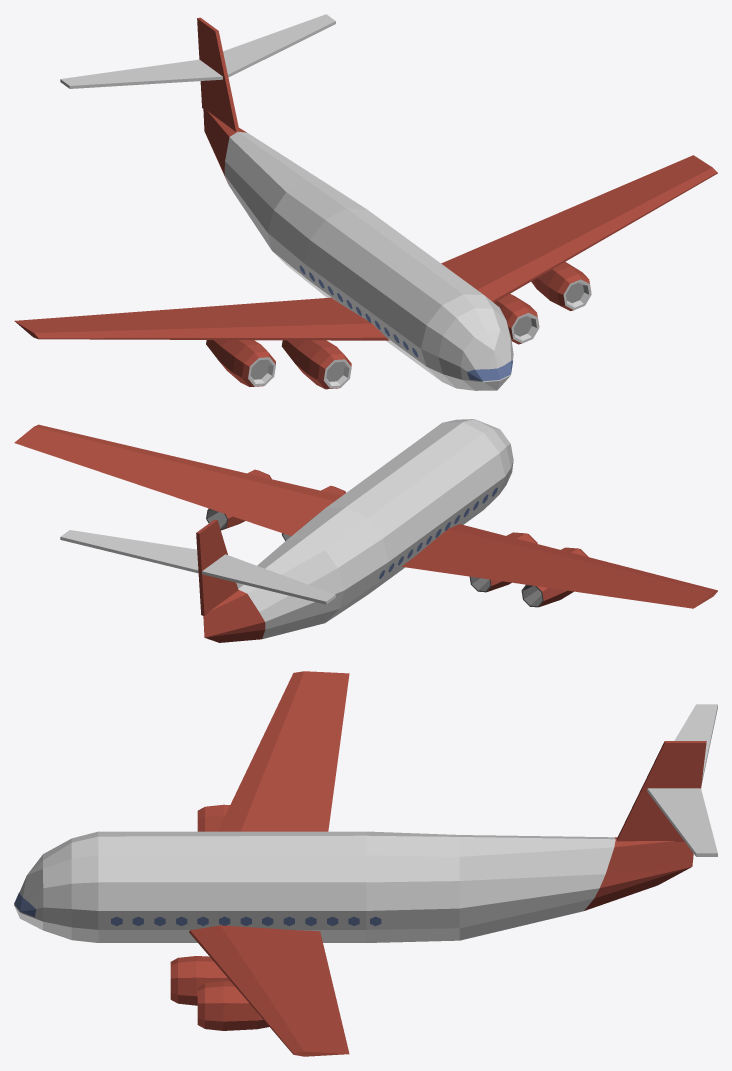
Rendered from transport_air_003.glb.
3 renders of one model, top to bottom at view 1: azimuth 30°, elevation 25°; view 2: azimuth 150°, elevation 25°; view 3: azimuth 270°, elevation 25°, orthographic. The views are drawn at different scales.
Parts seen in each view (by area): view 1: transport_air_003; view 2: transport_air_003; view 3: transport_air_003.
Part boxes in pixels (x1,y1,x2,y2): transport_air_003: [14, 14, 717, 390]; transport_air_003: [14, 419, 717, 642]; transport_air_003: [14, 671, 717, 1056].
Bounding box in the file's own units: 41.21 × 10.52 × 32.17.
Materials: 1 (1 with a texture image).
